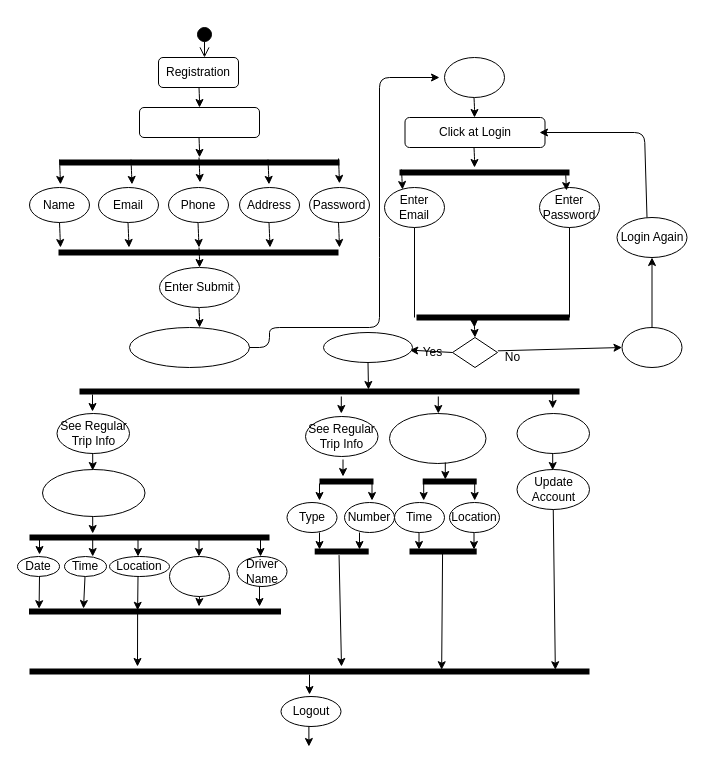
This 705x772 diagram has some shape labels left out. The shapes that lost their labels are listed below. From the top down, each one's centre as x and y in pixels, then its label:
At point (474, 77): "Login".
At point (199, 122): "Enter Registration Info".
At point (189, 347): "Get Massage Registration Done".
At point (367, 347): "Go to Dashboard".
At point (475, 352): "Invalid".
At point (651, 347): "Get Login Fail".
At point (437, 438): "Get Notification if Any Urgent Trip".
At point (553, 433): "View Account".
At point (93, 492): "Click On Regular Trip Info".
At point (199, 576): "Transport No".
